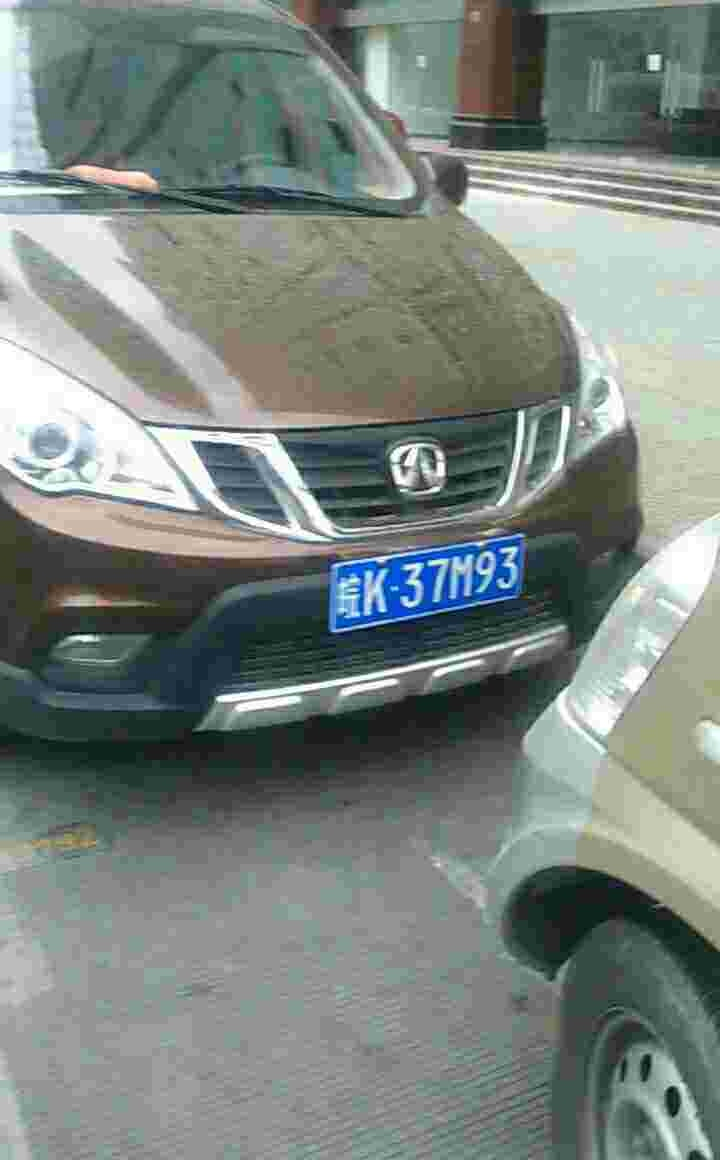car: (324, 554, 535, 614)
